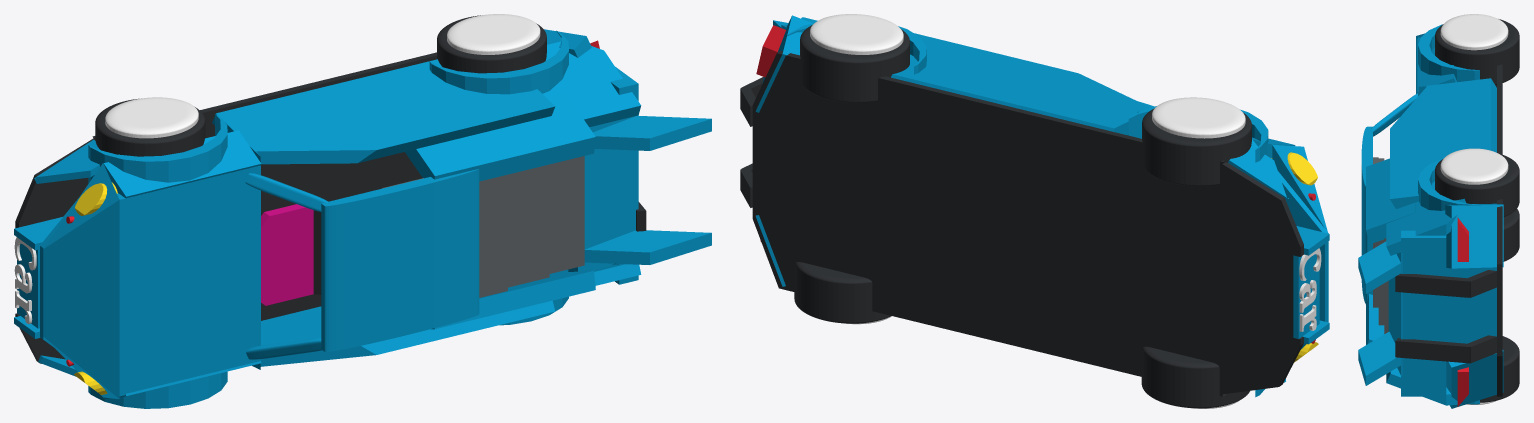
Rendered from tinker.obj.
3 renders of one model, left to right at view 1: azimuth 30°, elevation 25°; view 2: azimuth 150°, elevation 25°; view 3: azimuth 270°, elevation 25°, orthographic. The views are drawn at different scales.
Parts seen in each view (by area): view 1: group_0_40919, group_0_2829873, group_0_6383466, group_0_16448250, group_0_14093196, group_0_16768282; view 2: group_0_2829873, group_0_40919, group_0_16448250, group_0_15277357, group_0_16768282; view 3: group_0_40919, group_0_2829873, group_0_16448250, group_0_15277357, group_0_6383466.
Boxes of the visible parts, x1=… form: group_0_40919: x1=14, y1=29, x2=711, y2=408; group_0_2829873: x1=15, y1=15, x2=646, y2=363; group_0_6383466: x1=382, y1=156, x2=584, y2=297; group_0_16448250: x1=14, y1=14, x2=540, y2=323; group_0_14093196: x1=261, y1=204, x2=313, y2=305; group_0_16768282: x1=74, y1=182, x2=117, y2=394; group_0_2829873: x1=740, y1=25, x2=1303, y2=408; group_0_40919: x1=755, y1=15, x2=1329, y2=397; group_0_16448250: x1=810, y1=14, x2=1321, y2=408; group_0_15277357: x1=756, y1=25, x2=1315, y2=343; group_0_16768282: x1=1271, y1=152, x2=1318, y2=362; group_0_40919: x1=1358, y1=24, x2=1503, y2=408; group_0_2829873: x1=1395, y1=19, x2=1519, y2=402; group_0_16448250: x1=1440, y1=14, x2=1508, y2=404; group_0_15277357: x1=1457, y1=217, x2=1468, y2=406; group_0_6383466: x1=1373, y1=157, x2=1388, y2=333.
Bounding box in the file's own units: 130 × 56 × 36.37.
